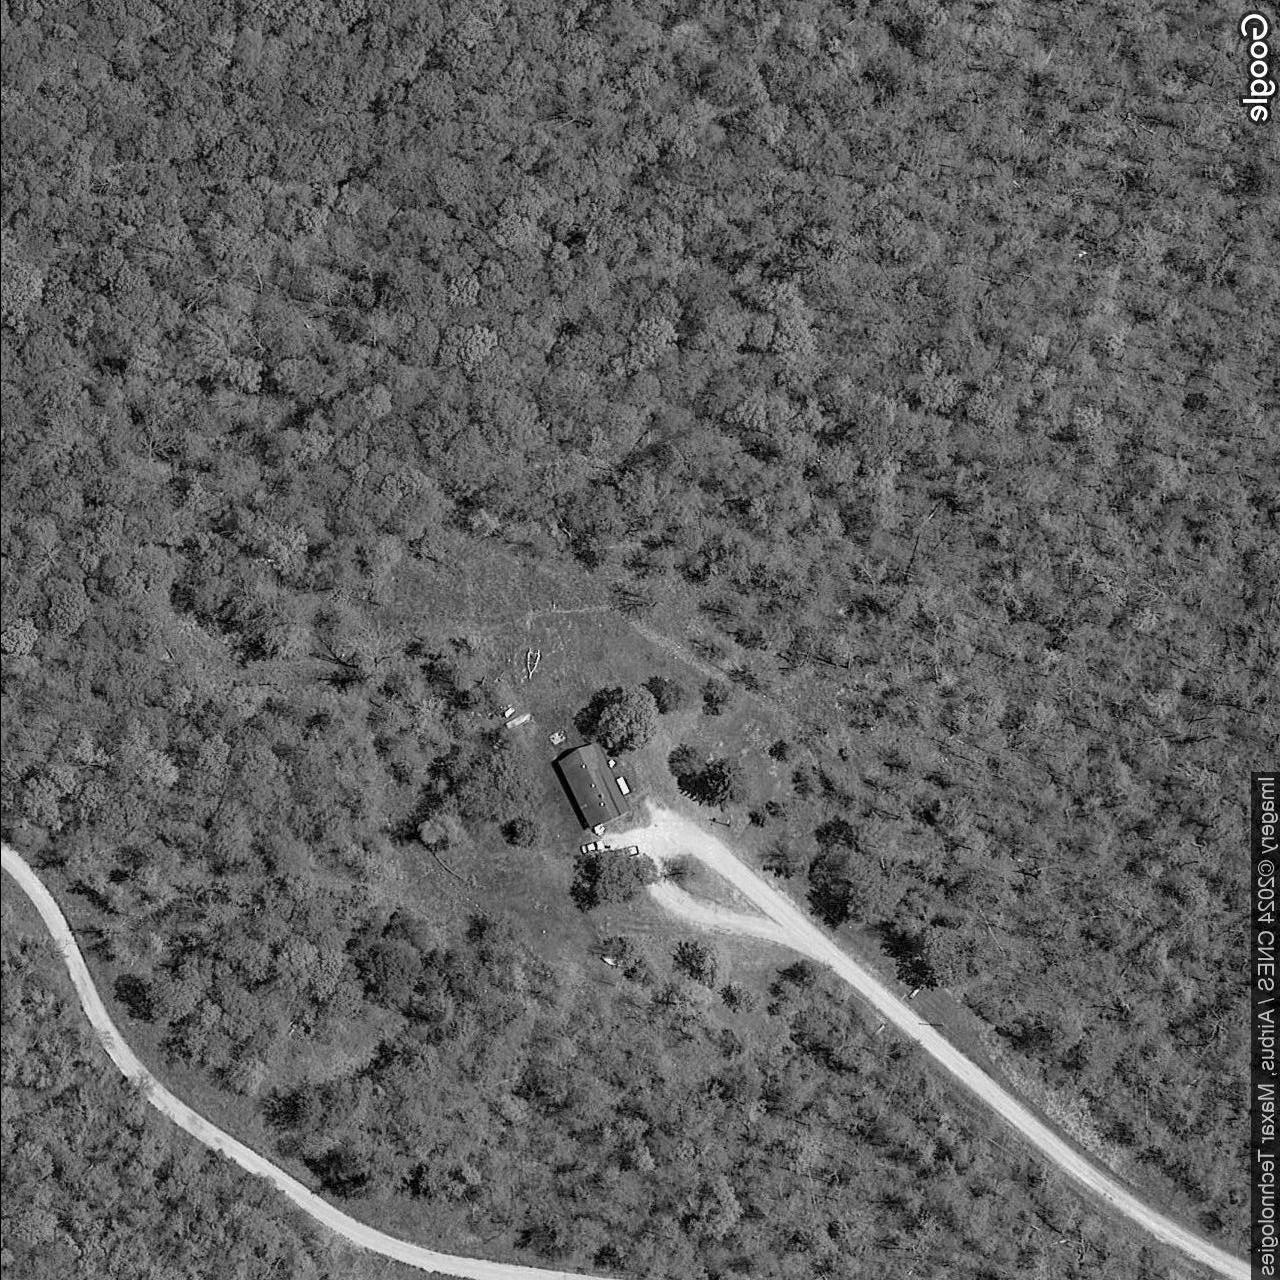House: (557, 741, 631, 830)
